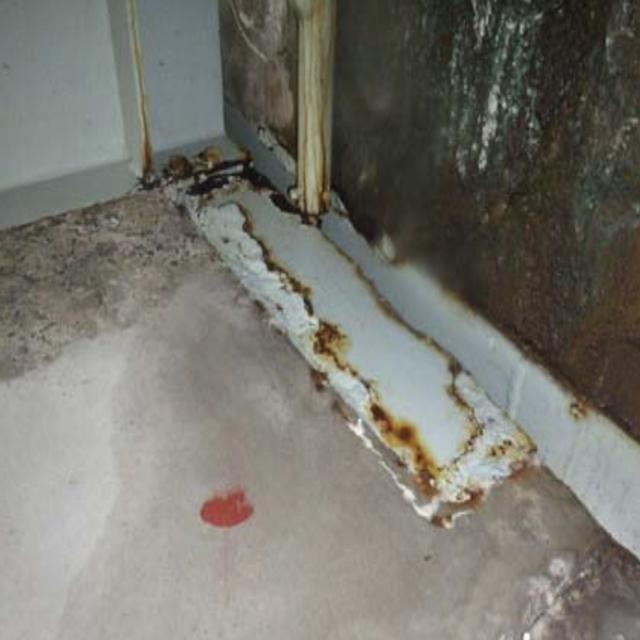corrosion: (134, 110, 540, 529)
